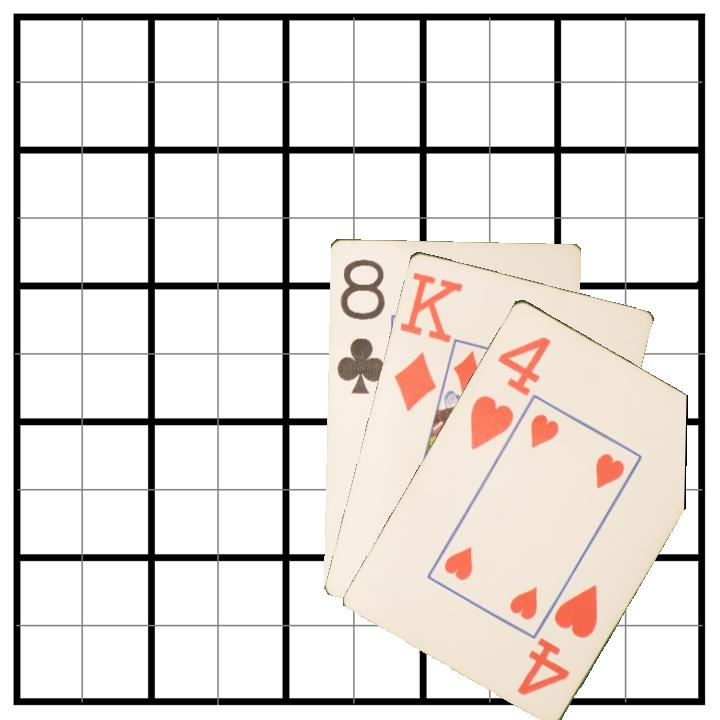4h: (466, 332, 554, 452), (512, 580, 601, 698)
8c: (333, 255, 388, 396)
Kd: (389, 267, 466, 414)
